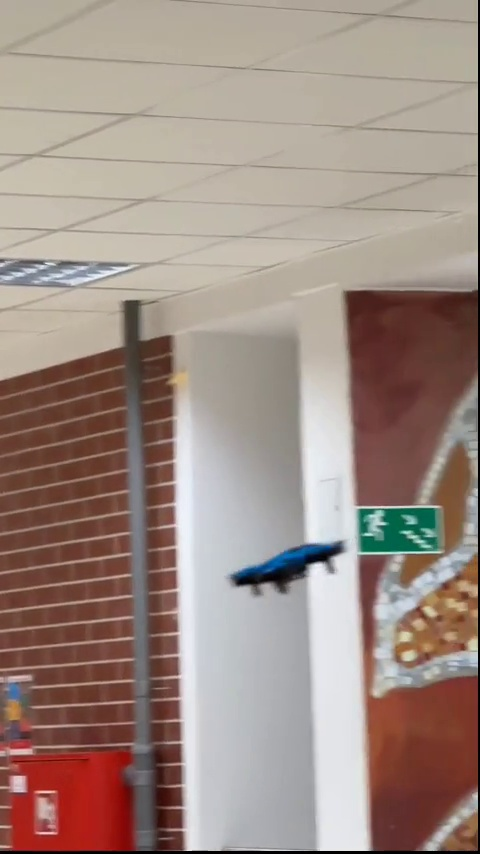drone: (231, 547, 352, 596)
